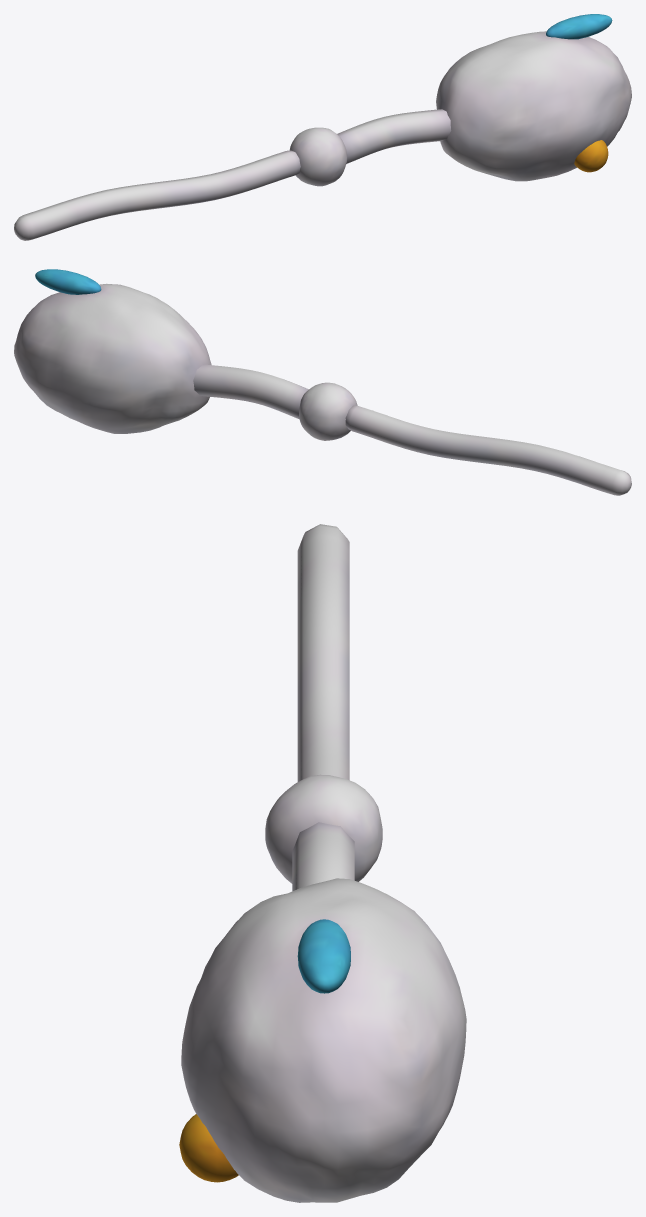
Rendered from myosin-head.glb.
The picture shows the model from 3 angles, top to bottom: view 1: azimuth 30°, elevation 25°; view 2: azimuth 150°, elevation 25°; view 3: azimuth 270°, elevation 25°; orthographic projection. The views are drawn at different scales.
Parts seen in each view (by area): view 1: myosin-head-head, myosin-head-tail, myosin-head-lever, myosin-head-hinge, myosin-head-actin-cleft, myosin-head-atp-pocket; view 2: myosin-head-head, myosin-head-tail, myosin-head-lever, myosin-head-hinge, myosin-head-actin-cleft; view 3: myosin-head-head, myosin-head-tail, myosin-head-hinge, myosin-head-lever, myosin-head-actin-cleft, myosin-head-atp-pocket.
Boxes of the visible parts, x1=… form: myosin-head-head: x1=436, y1=31, x2=631, y2=181; myosin-head-tail: x1=14, y1=150, x2=300, y2=240; myosin-head-lever: x1=337, y1=109, x2=451, y2=163; myosin-head-hinge: x1=289, y1=127, x2=347, y2=186; myosin-head-actin-cleft: x1=546, y1=14, x2=612, y2=39; myosin-head-atp-pocket: x1=574, y1=140, x2=608, y2=172; myosin-head-head: x1=14, y1=283, x2=211, y2=433; myosin-head-tail: x1=345, y1=405, x2=631, y2=495; myosin-head-lever: x1=193, y1=364, x2=308, y2=419; myosin-head-hinge: x1=299, y1=382, x2=357, y2=440; myosin-head-actin-cleft: x1=35, y1=269, x2=101, y2=294; myosin-head-head: x1=181, y1=878, x2=466, y2=1202; myosin-head-tail: x1=297, y1=524, x2=349, y2=781; myosin-head-hinge: x1=265, y1=774, x2=382, y2=883; myosin-head-lever: x1=292, y1=822, x2=354, y2=891; myosin-head-actin-cleft: x1=297, y1=919, x2=350, y2=993; myosin-head-atp-pocket: x1=179, y1=1114, x2=238, y2=1182.
Size of what is drawn, in the model's own units: 2.62 by 0.5815 by 0.5356.
